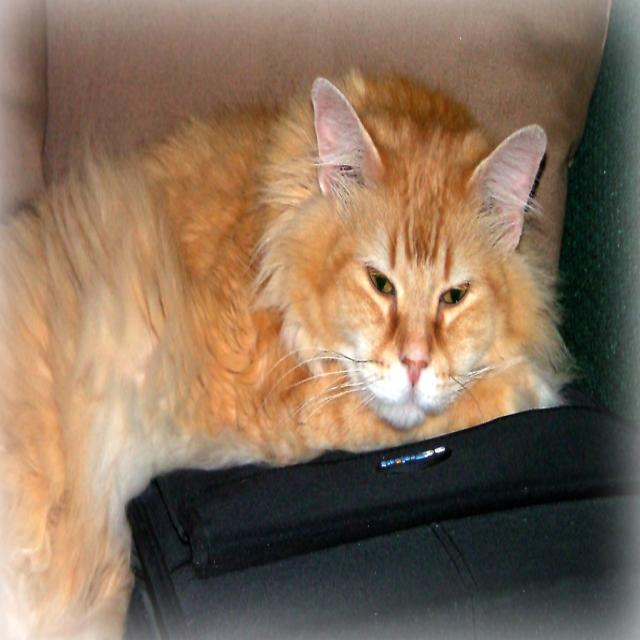cat: (1, 65, 580, 639)
